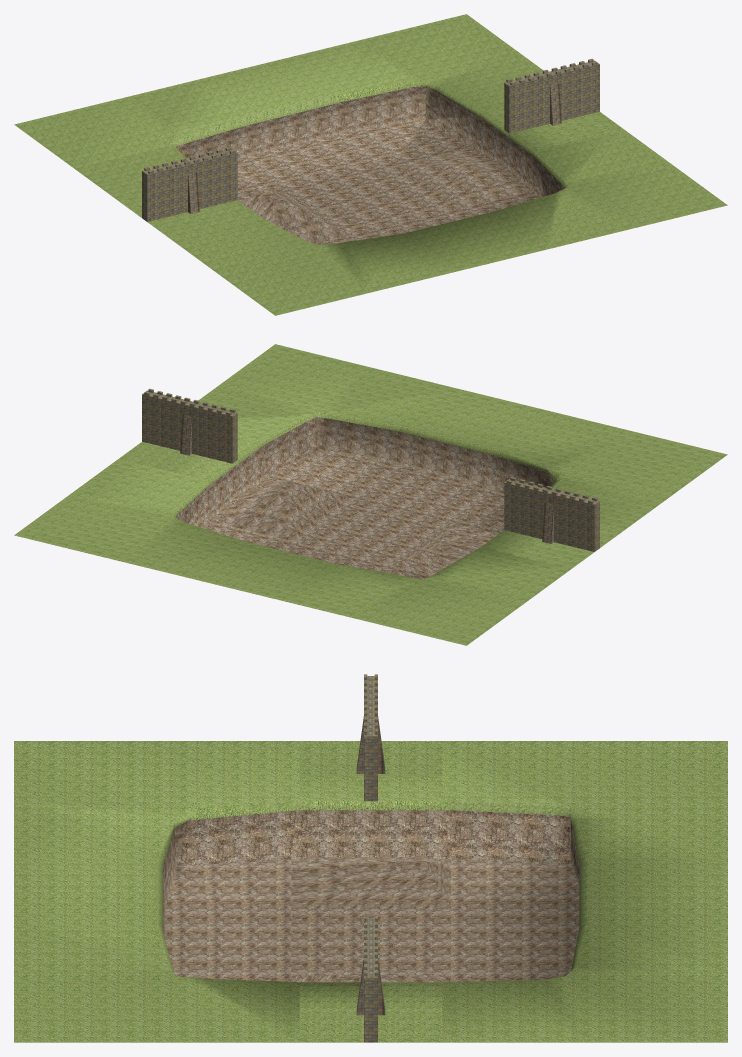
File: map50GBEWL.fbx
The picture shows the model from 3 angles, top to bottom: view 1: azimuth 30°, elevation 25°; view 2: azimuth 150°, elevation 25°; view 3: azimuth 270°, elevation 25°; orthographic projection. The views are drawn at different scales.
Visible parts, largest first — view 1: map50GBEWL_Layer11, map50GBEWL_Layer12, map50GBEWL_Layer6, map50GBEWL_Layer3, map50GBEWL_Layer5; view 2: map50GBEWL_Layer11, map50GBEWL_Layer12, map50GBEWL_Layer6, map50GBEWL_Layer3, map50GBEWL_Layer5; view 3: map50GBEWL_Layer11, map50GBEWL_Layer12, map50GBEWL_Layer6, map50GBEWL_Layer5, map50GBEWL_Layer3.
Part boxes in pixels (left/top/right/bottom): map50GBEWL_Layer11: left=14, top=14, right=727, bottom=315; map50GBEWL_Layer12: left=176, top=86, right=564, bottom=244; map50GBEWL_Layer6: left=142, top=60, right=599, bottom=221; map50GBEWL_Layer3: left=144, top=58, right=597, bottom=173; map50GBEWL_Layer5: left=188, top=84, right=561, bottom=213; map50GBEWL_Layer11: left=14, top=344, right=727, bottom=645; map50GBEWL_Layer12: left=175, top=417, right=554, bottom=579; map50GBEWL_Layer6: left=142, top=390, right=599, bottom=551; map50GBEWL_Layer3: left=144, top=388, right=597, bottom=503; map50GBEWL_Layer5: left=180, top=414, right=553, bottom=543; map50GBEWL_Layer11: left=14, top=741, right=727, bottom=1042; map50GBEWL_Layer12: left=163, top=810, right=579, bottom=982; map50GBEWL_Layer6: left=364, top=676, right=377, bottom=1042; map50GBEWL_Layer5: left=356, top=716, right=385, bottom=1015; map50GBEWL_Layer3: left=364, top=674, right=377, bottom=976.
Bounding box in the file's own units: 1 × 0.1831 × 1.
4 materials, 4 textured.
